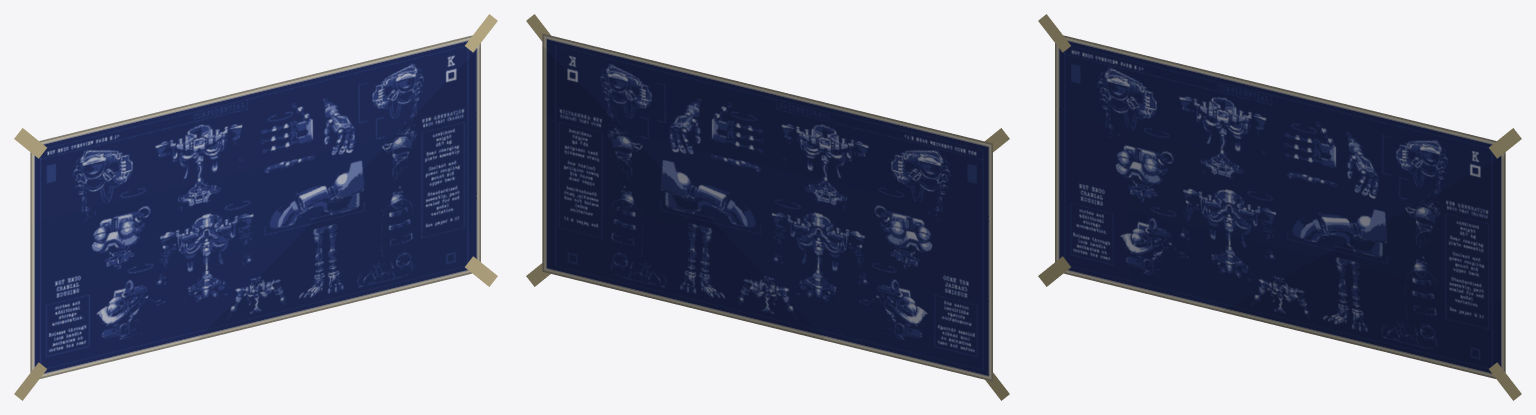
The model's file is blueprint_model.glb.
3 renders of one model, left to right at view 1: azimuth 30°, elevation 25°; view 2: azimuth 150°, elevation 25°; view 3: azimuth 330°, elevation 25°, orthographic.
Parts seen in each view (by area): view 1: blueprint; view 2: blueprint; view 3: blueprint.
Boxes of the visible parts, x1,y1,x2,y2 form: blueprint: (14,14,497,400); blueprint: (526,14,1009,400); blueprint: (1038,14,1521,400).
Size of the model in its own units: 1.04 by 0.5594 by 0.00346.
Materials: 1 (1 with a texture image).
